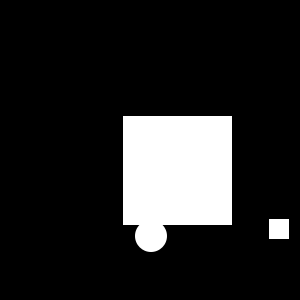circle: (123, 116, 232, 225), (269, 219, 289, 239)
rectangle: (135, 220, 167, 252)
